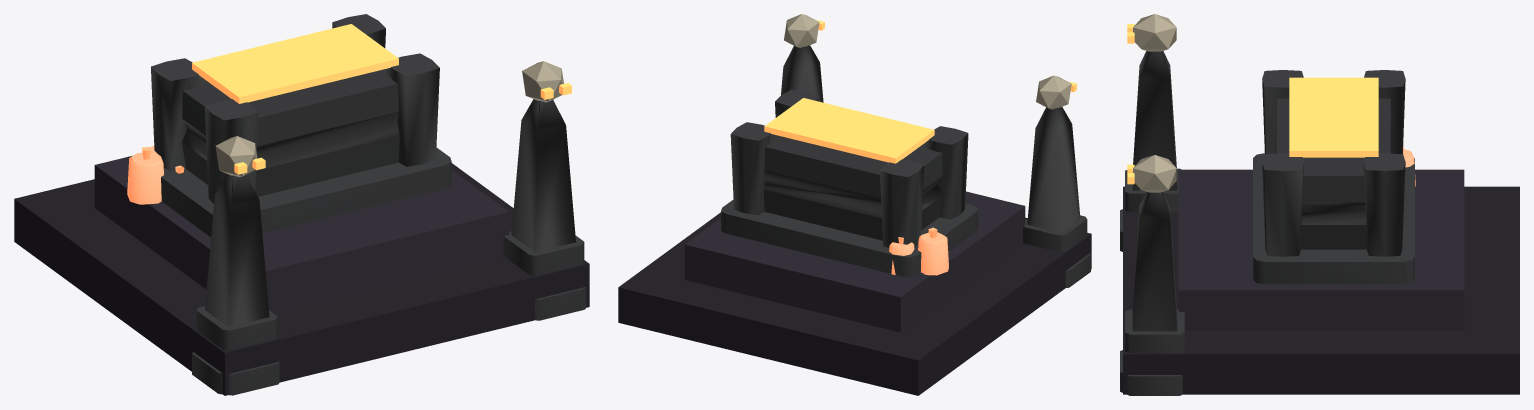
The model's file is altar_l1.glb.
3 views of the same model, side by side, from view 1: azimuth 30°, elevation 25°; view 2: azimuth 150°, elevation 25°; view 3: azimuth 270°, elevation 25° (orthographic). The views are drawn at different scales.
Parts seen in each view (by area): view 1: altar_l1; view 2: altar_l1; view 3: altar_l1.
Part boxes in pixels (x1,y1,x2,y2): altar_l1: (14,14,589,395); altar_l1: (618,14,1091,395); altar_l1: (1120,14,1519,395).
Bounding box in the file's own units: 3.09 × 1.92 × 3.06.
